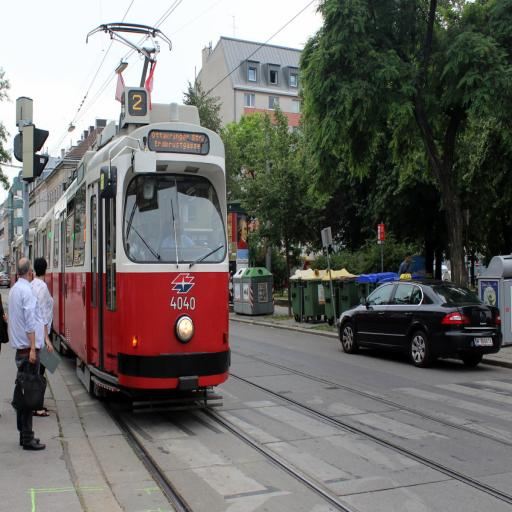E2-Tram: (9, 76, 233, 430)
